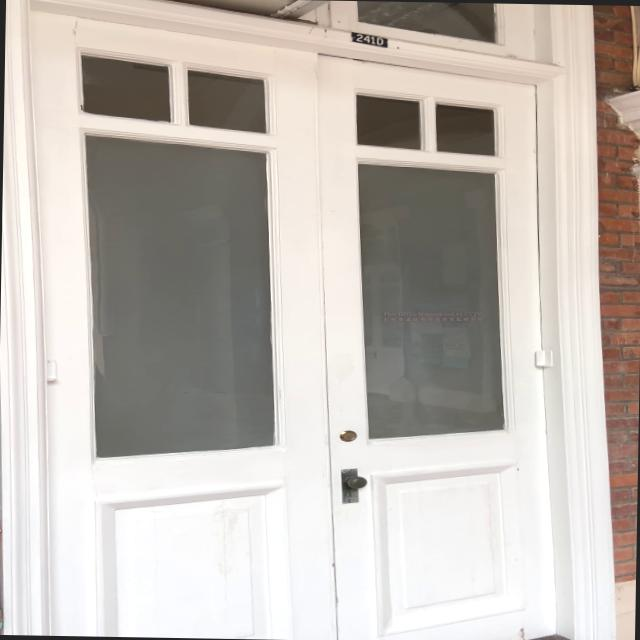room241d: (349, 28, 389, 51)
